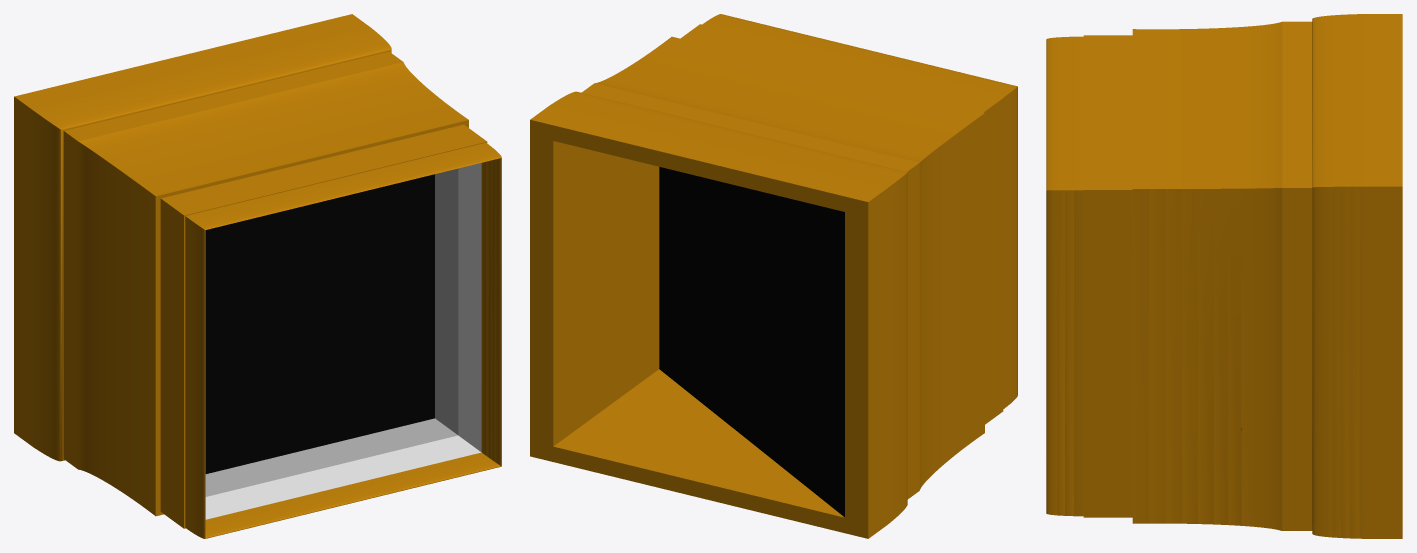
Rendered from Frame1_gold.glb.
3 views of the same model, side by side, from view 1: azimuth 30°, elevation 25°; view 2: azimuth 150°, elevation 25°; view 3: azimuth 270°, elevation 25° (orthographic). The views are drawn at different scales.
Parts seen in each view (by area): view 1: Material3.003, Material2.001, A_PaintingMesh, Material3.001; view 2: Material3.003, Material3; view 3: Material3.003.
Part boxes in pixels (x1,y1,x2,y2): Material3.003: [14, 14, 501, 538]; Material2.001: [206, 169, 457, 496]; A_PaintingMesh: [205, 174, 434, 473]; Material3.001: [205, 163, 481, 519]; Material3.003: [530, 14, 1017, 538]; Material3: [659, 167, 844, 517]; Material3.003: [1046, 14, 1402, 538].
Size of the model in its own units: 1.14 by 1.09 by 0.9992.
6 materials, 1 textured.
